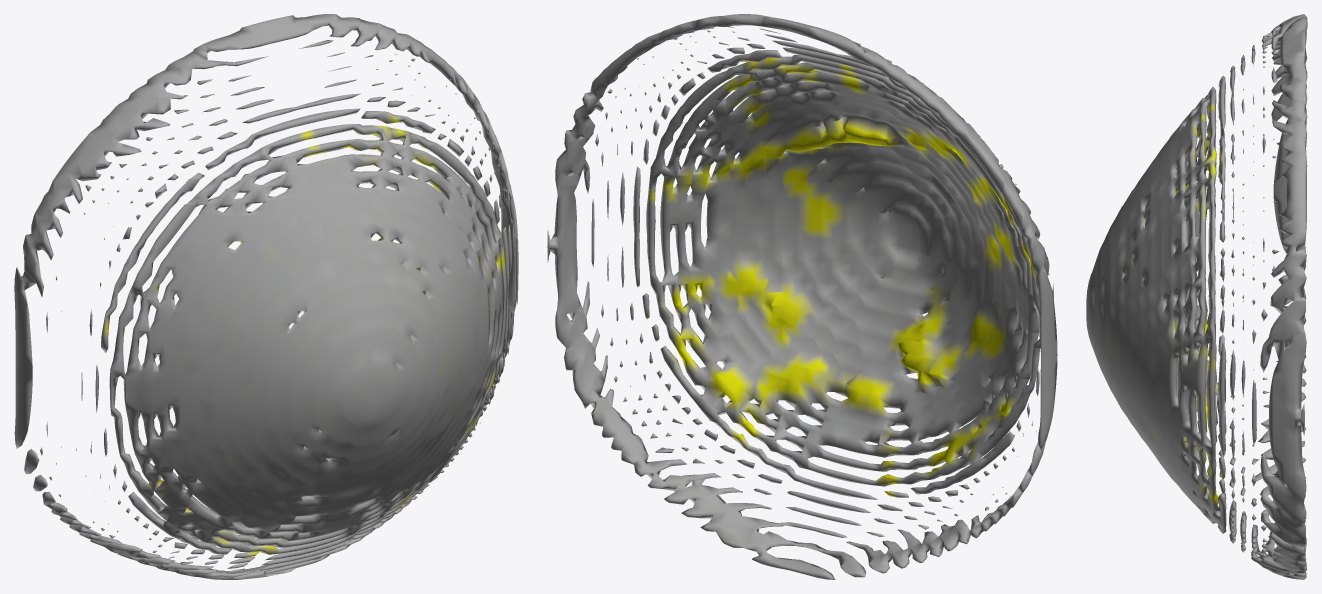
Rendered from a hat.obj.
3 views of the same model, side by side, from view 1: azimuth 30°, elevation 25°; view 2: azimuth 150°, elevation 25°; view 3: azimuth 270°, elevation 25° (orthographic). The views are drawn at different scales.
Size of the model in its own units: 0.8641 by 0.913 by 0.3534.
